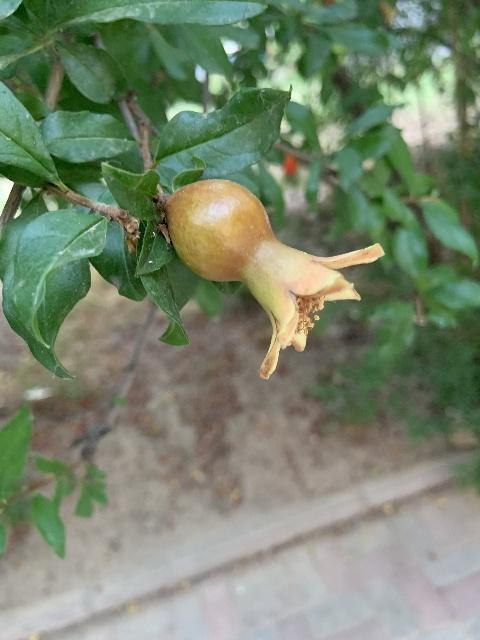early-fruit: (167, 179, 385, 379)
